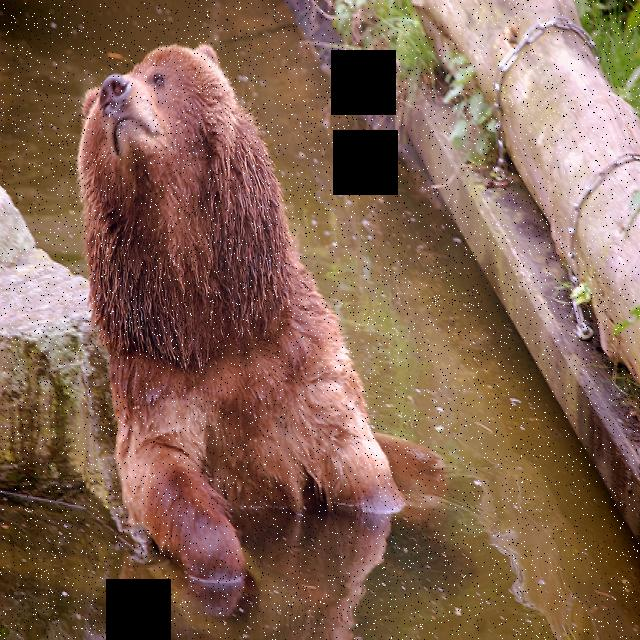Bear: (59, 31, 425, 599)
